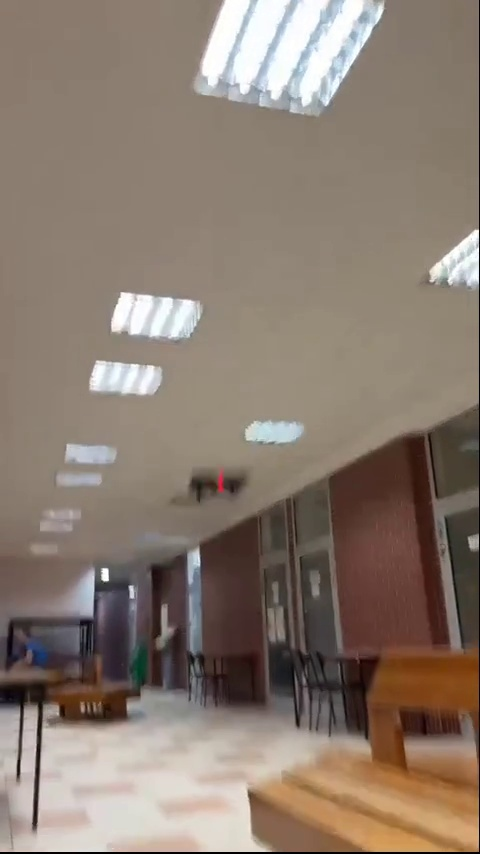drone: (189, 473, 253, 491)
no vest: (9, 627, 57, 673)
